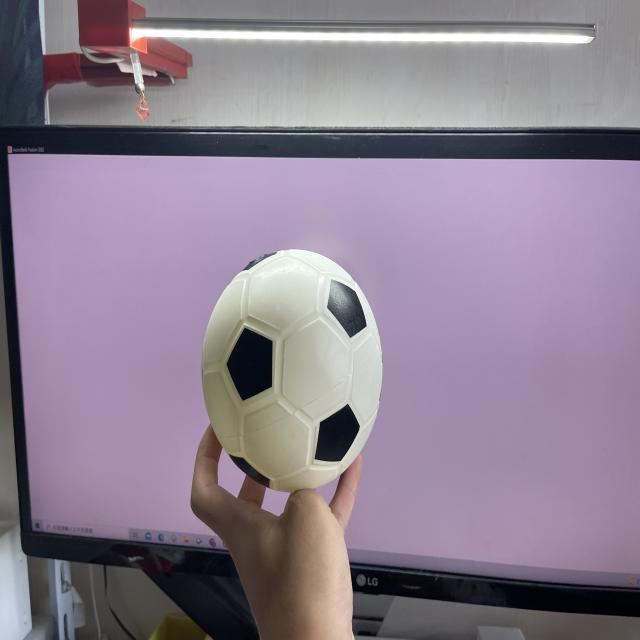ball: (196, 244, 388, 497)
